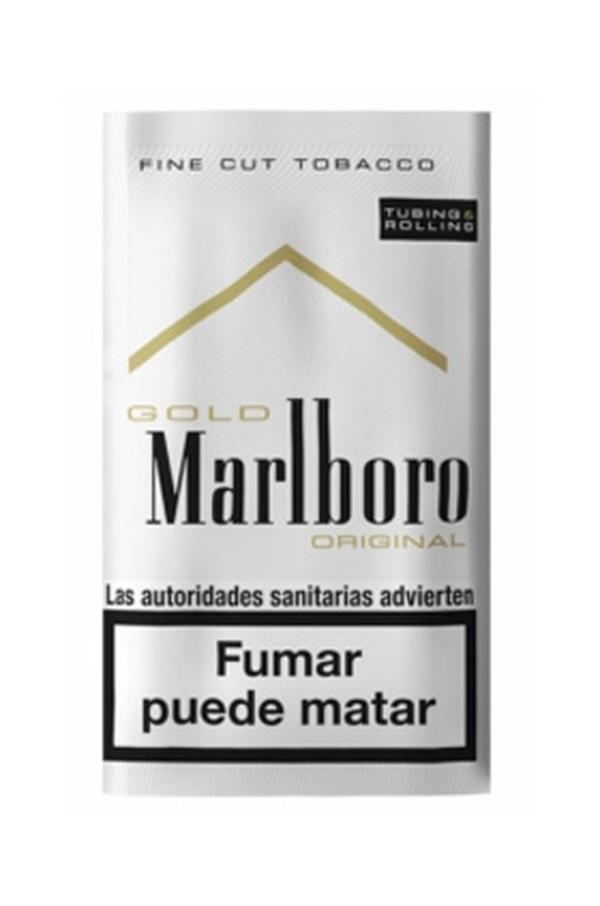marlboro_gold: (104, 115, 491, 775)
